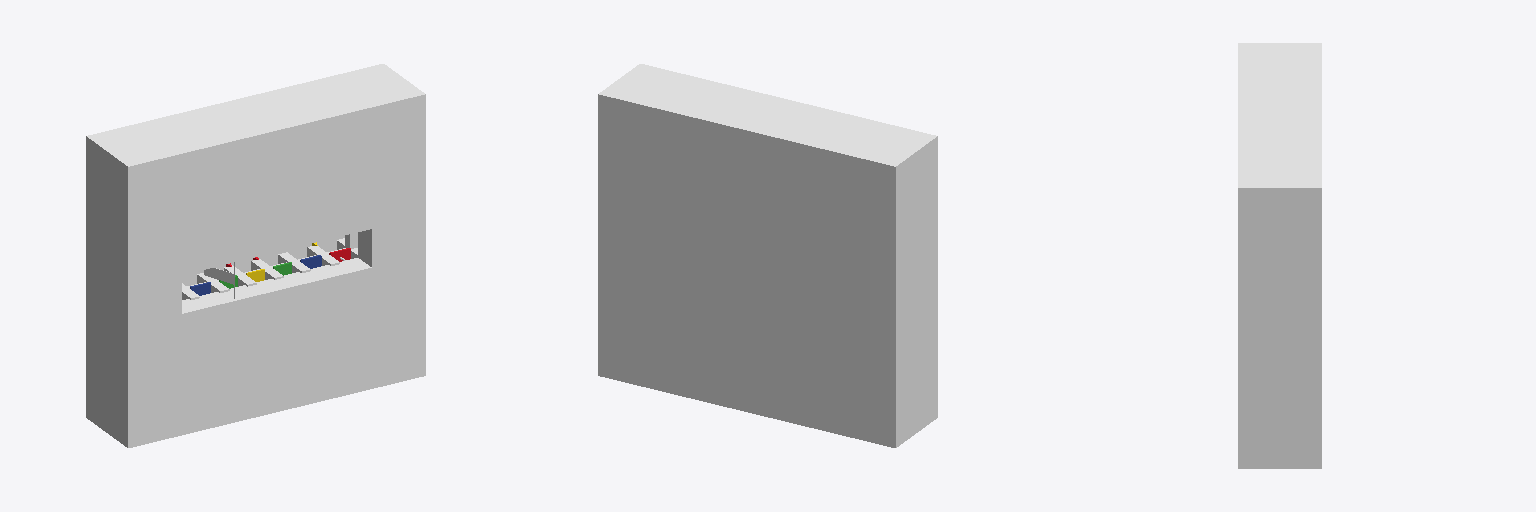
3 views of the same model, side by side, from view 1: azimuth 30°, elevation 25°; view 2: azimuth 150°, elevation 25°; view 3: azimuth 270°, elevation 25° (orthographic).
Visible parts, largest first — view 1: obj_0; view 2: obj_0; view 3: obj_0.
Boxes of the visible parts, x1=… form: obj_0: x1=86, y1=64, x2=425, y2=447; obj_0: x1=598, y1=64, x2=937, y2=447; obj_0: x1=1238, y1=43, x2=1321, y2=468.
Size of the model in its own units: 584 by 528 by 143.